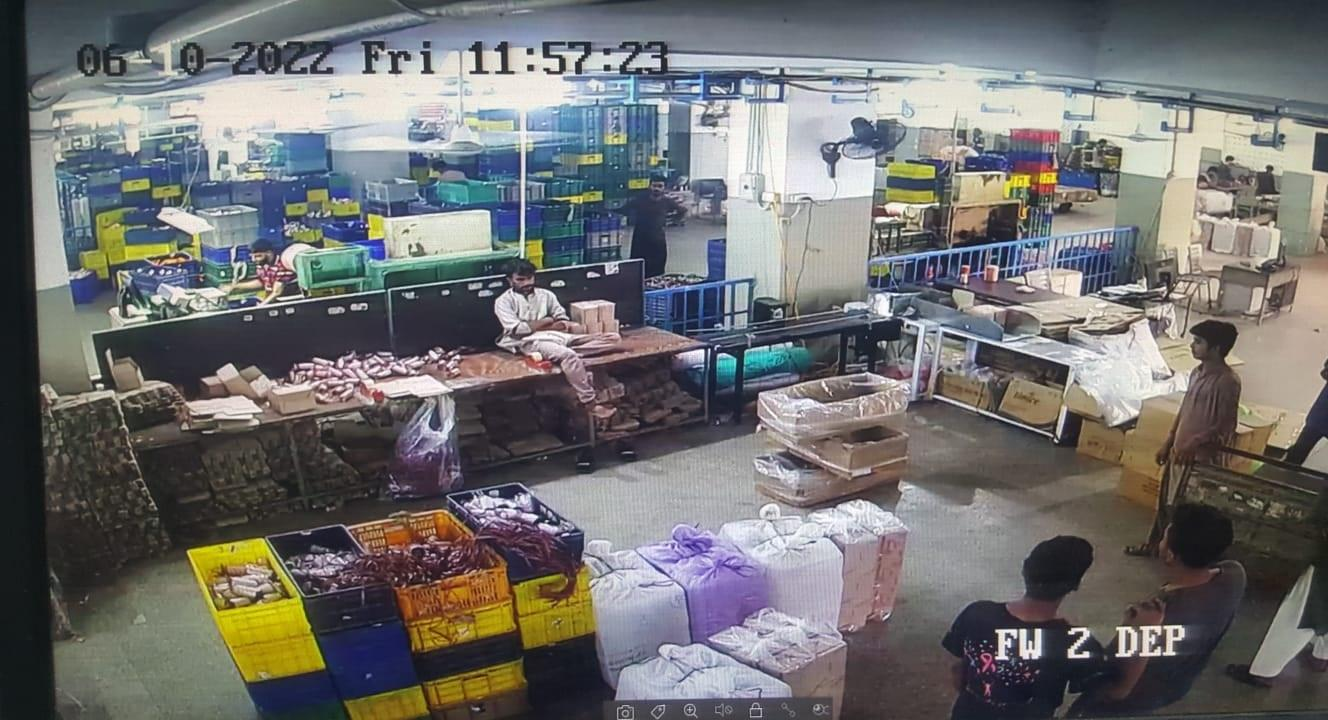person: (949, 533, 1164, 720), (1105, 502, 1249, 720), (1163, 318, 1246, 460), (497, 257, 572, 365), (634, 173, 687, 268), (252, 237, 302, 302)
